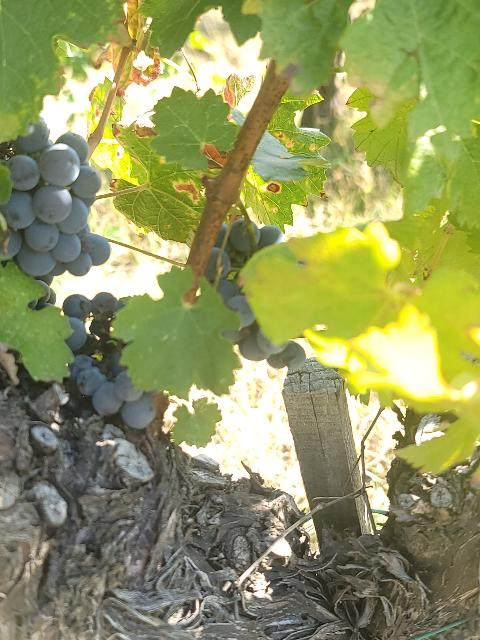grapes: (0, 119, 110, 284), (205, 216, 304, 368), (63, 292, 156, 429)
